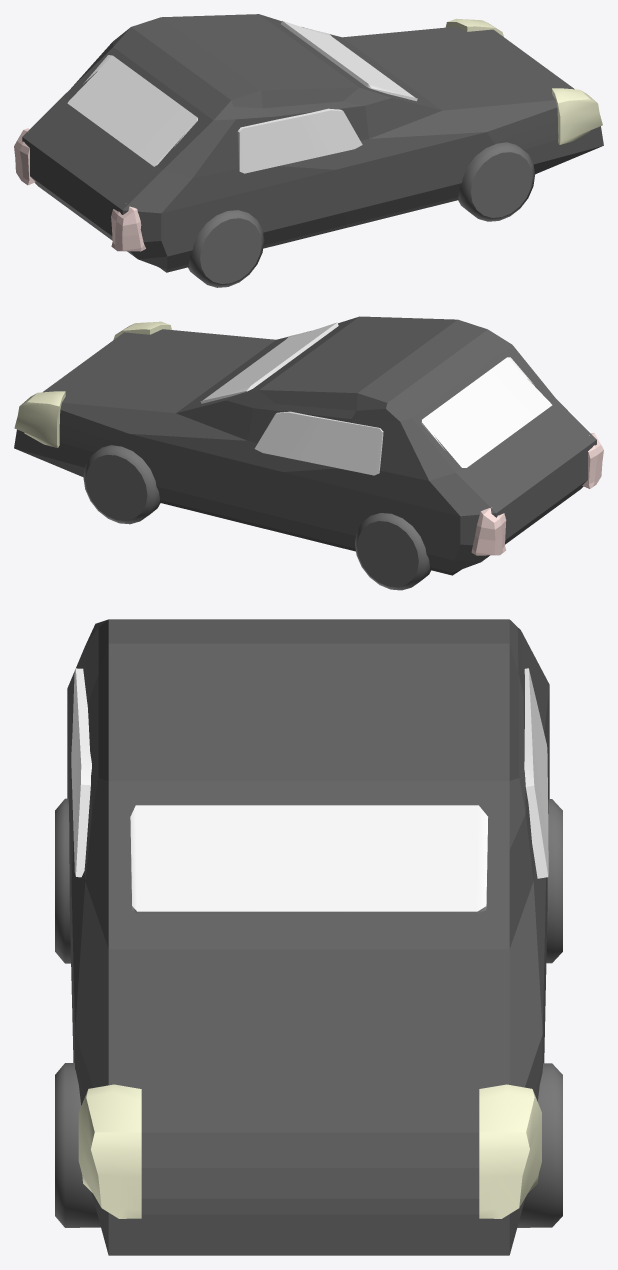
Rendered from CarroNegro.fbx.
3 views of the same model, one above another, from view 1: azimuth 30°, elevation 25°; view 2: azimuth 150°, elevation 25°; view 3: azimuth 270°, elevation 25° (orthographic). The views are drawn at different scales.
Visible parts, largest first — view 1: pCube1, pCube10, pCube8, pCylinder1, pCylinder2, pCube9, pCube6, pCube11; view 2: pCube1, pCube10, pCube12, pCylinder3, pCylinder4, pCube9, pCube6, pCube11; view 3: pCube1, pCube6, pCube9, pCylinder1, pCylinder3, pCube12, pCube8, pCylinder4, pCylinder2.
Part boxes in pixels (x1,y1,x2,y2): pCube1: (22, 14, 603, 272); pCube10: (67, 55, 197, 166); pCube8: (237, 108, 362, 173); pCylinder1: (458, 142, 534, 221); pCylinder2: (188, 210, 264, 287); pCube9: (445, 18, 602, 144); pCube6: (281, 20, 417, 101); pCube11: (14, 128, 145, 251); pCube1: (14, 316, 596, 575); pCube10: (421, 357, 552, 468); pCube12: (254, 411, 383, 475); pCylinder3: (83, 445, 160, 524); pCylinder4: (355, 513, 431, 590); pCube9: (14, 321, 171, 447); pCube6: (200, 322, 338, 403); pCube11: (471, 433, 603, 555); pCube1: (67, 619, 549, 1255); pCube6: (130, 805, 488, 913); pCube9: (78, 1084, 541, 1218); pCylinder1: (55, 1063, 100, 1227); pCylinder3: (517, 1063, 562, 1227); pCube12: (524, 668, 548, 878); pCube8: (71, 668, 91, 877); pCylinder4: (546, 799, 562, 963); pCylinder2: (55, 798, 70, 963).
Bounding box in the file's own units: 24.46 × 8.56 × 11.09.
